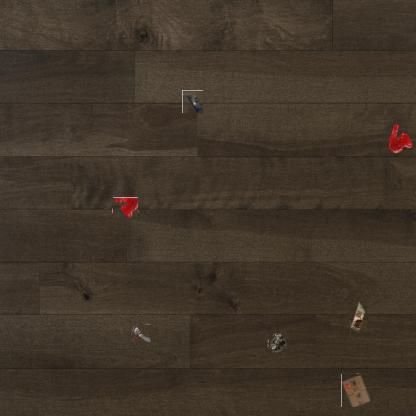dirty: (341, 373, 370, 407), (349, 302, 367, 332), (182, 90, 203, 113), (267, 332, 287, 354), (132, 323, 152, 343)
liquid: (390, 124, 416, 154), (112, 197, 138, 218)
